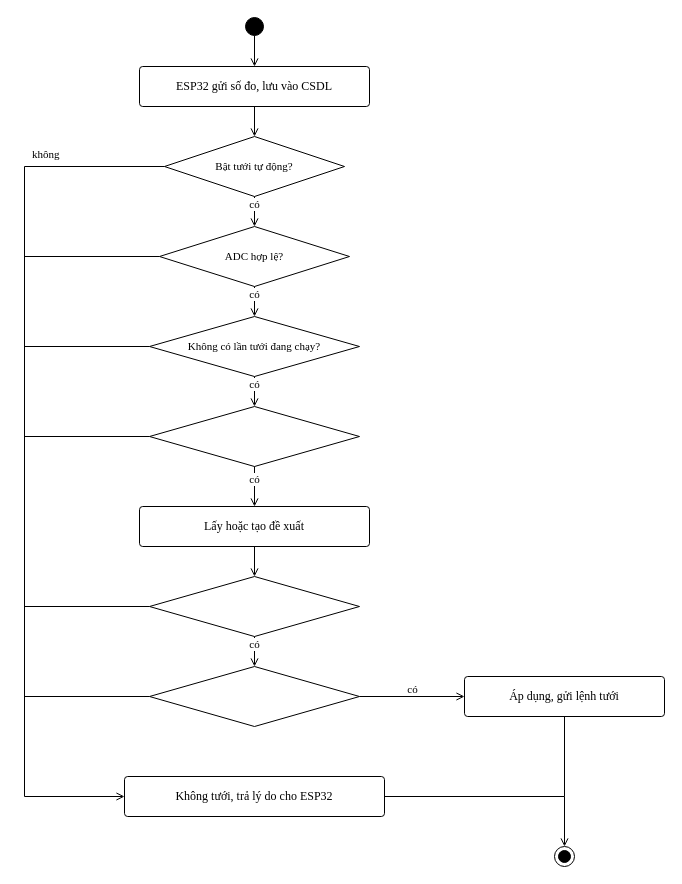
The diagram is 682 pixels wide and 884 high, and some of its shapes have lost their labels. The centre of each missing label's shape, as x and y in pixels:
"Trong phạm vi áp dụng?" belongs at point 254,696.
"Đã qua 30 phút chờ thấm?" belongs at point 254,436.
"Đề xuất chưa bị ghi đè?" belongs at point 254,606.
